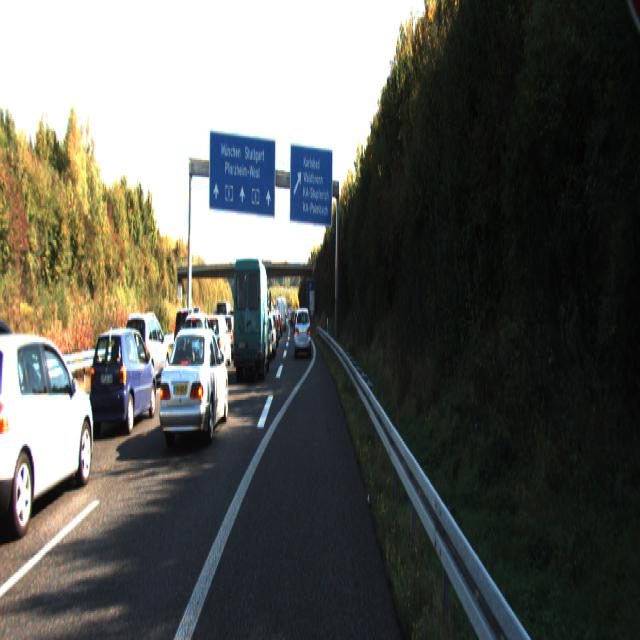Car: (0, 328, 101, 552), (156, 324, 229, 456), (89, 323, 159, 436), (0, 311, 46, 455), (232, 254, 269, 381), (120, 310, 170, 391), (202, 312, 232, 371), (294, 306, 311, 356), (260, 312, 278, 358)
